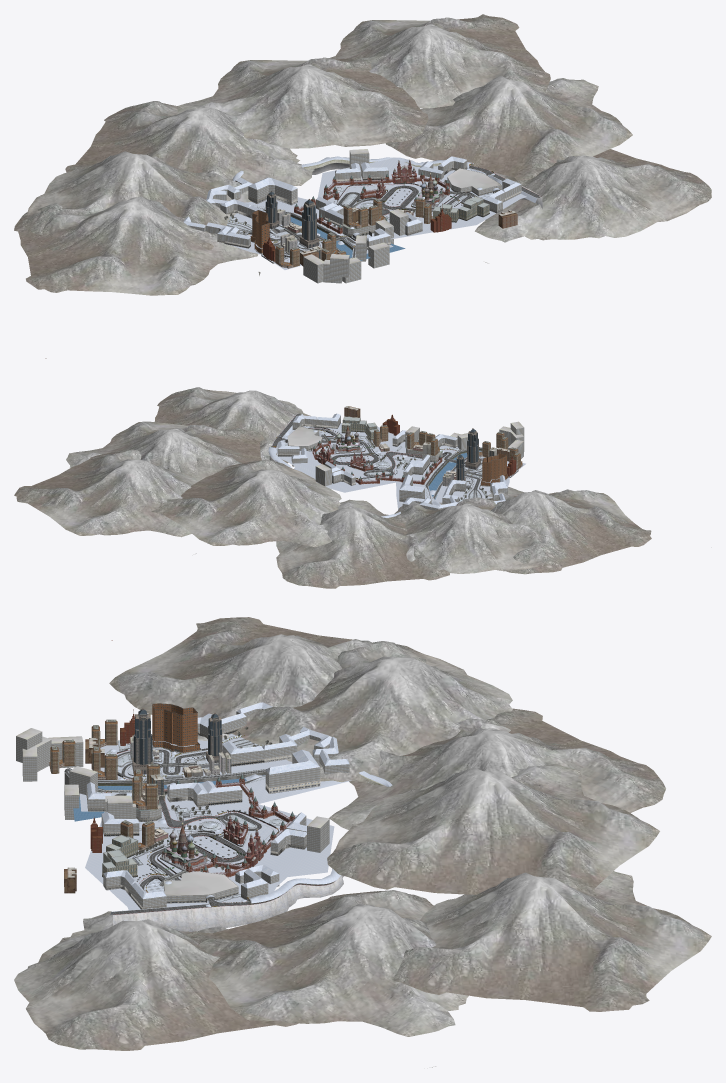
The model's file is moscow.glb.
3 views of the same model, one above another, from view 1: azimuth 30°, elevation 25°; view 2: azimuth 150°, elevation 25°; view 3: azimuth 270°, elevation 25° (orthographic). The views are drawn at different scales.
Parts seen in each view (by area): view 1: mesh; view 2: mesh; view 3: mesh.
Part boxes in pixels (x1=…): mesh: x1=14, y1=14, x2=711, y2=358; mesh: x1=14, y1=387, x2=711, y2=588; mesh: x1=14, y1=617, x2=711, y2=1067.
Size of what is drawn, in the model's own units: 3114 by 484 by 2092.
46 materials, 46 textured.
